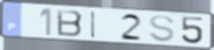1: (38, 7, 53, 38)
2: (118, 13, 145, 42)
5: (180, 16, 205, 45)
B: (55, 8, 85, 38)
I: (90, 10, 97, 40)
S: (148, 14, 177, 44)
